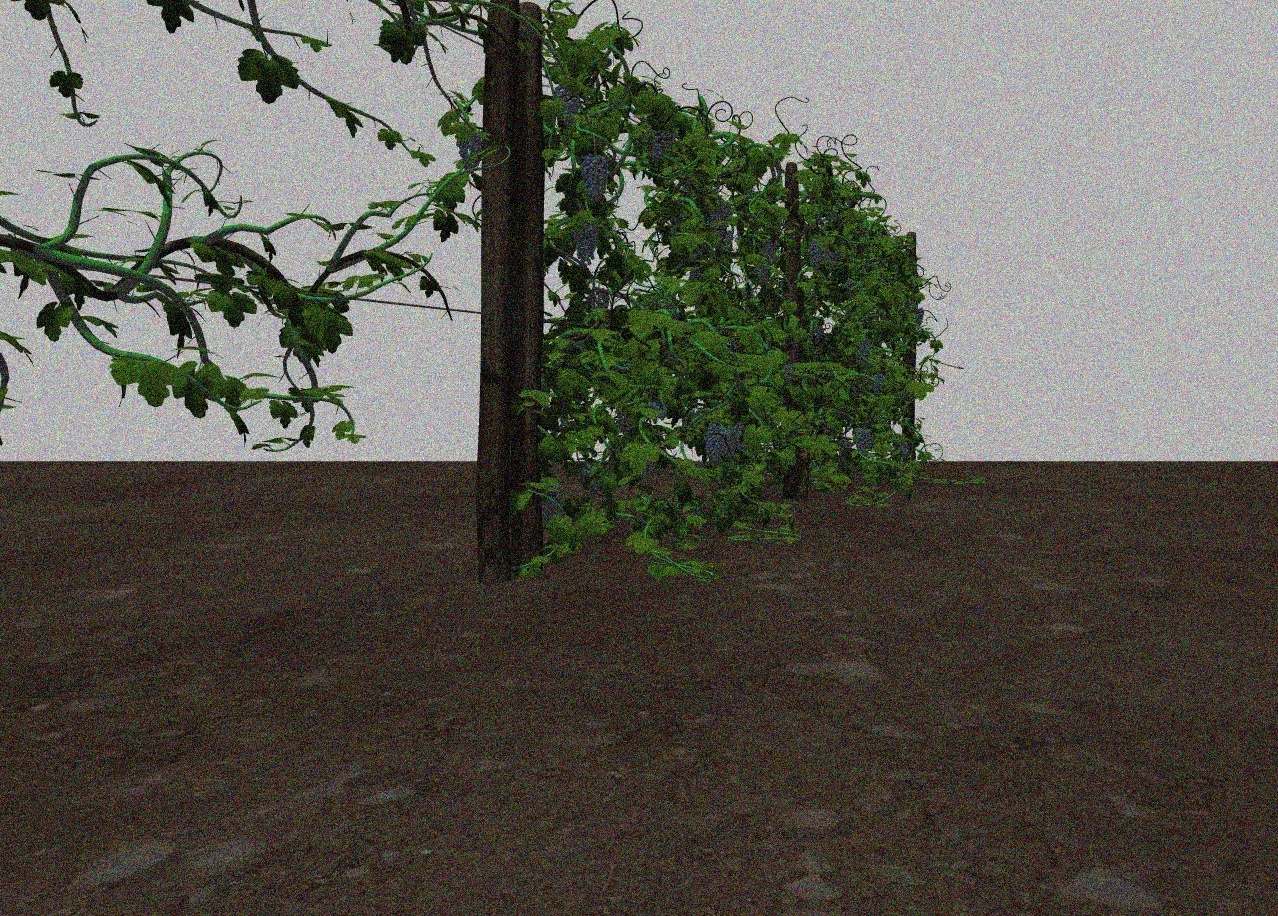grape: (570, 217, 601, 266), (581, 156, 608, 201), (455, 130, 483, 173), (643, 129, 675, 165), (553, 87, 580, 128), (541, 484, 567, 521), (704, 425, 726, 461), (723, 423, 745, 452), (709, 206, 729, 232), (853, 338, 872, 364), (807, 241, 824, 270), (855, 429, 873, 452), (716, 232, 733, 256), (754, 262, 771, 284), (870, 373, 886, 396), (762, 238, 779, 258), (915, 307, 926, 325), (897, 443, 911, 457)
